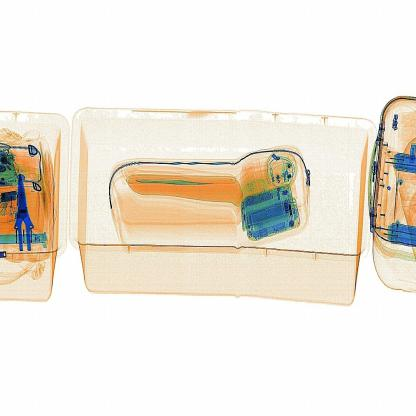gun: (2, 166, 54, 264)
